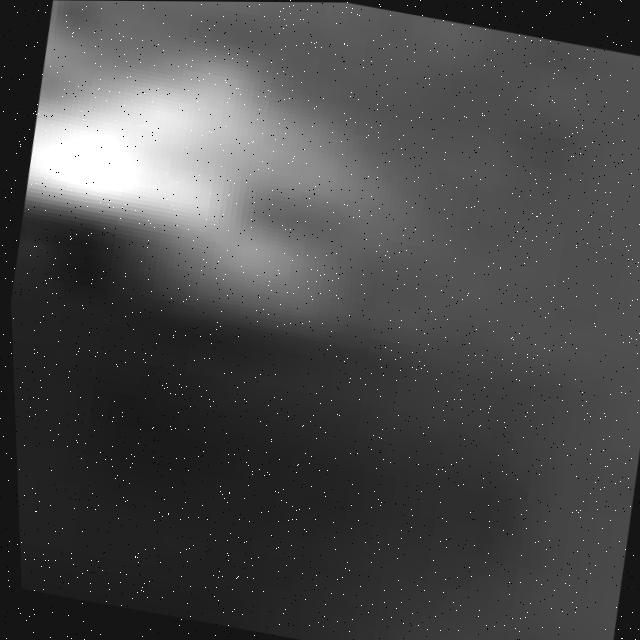person: (8, 49, 477, 339)
